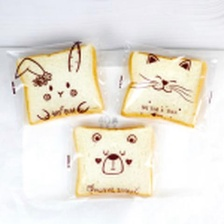snack: (0, 29, 116, 136), (109, 34, 224, 133), (57, 111, 166, 207)
